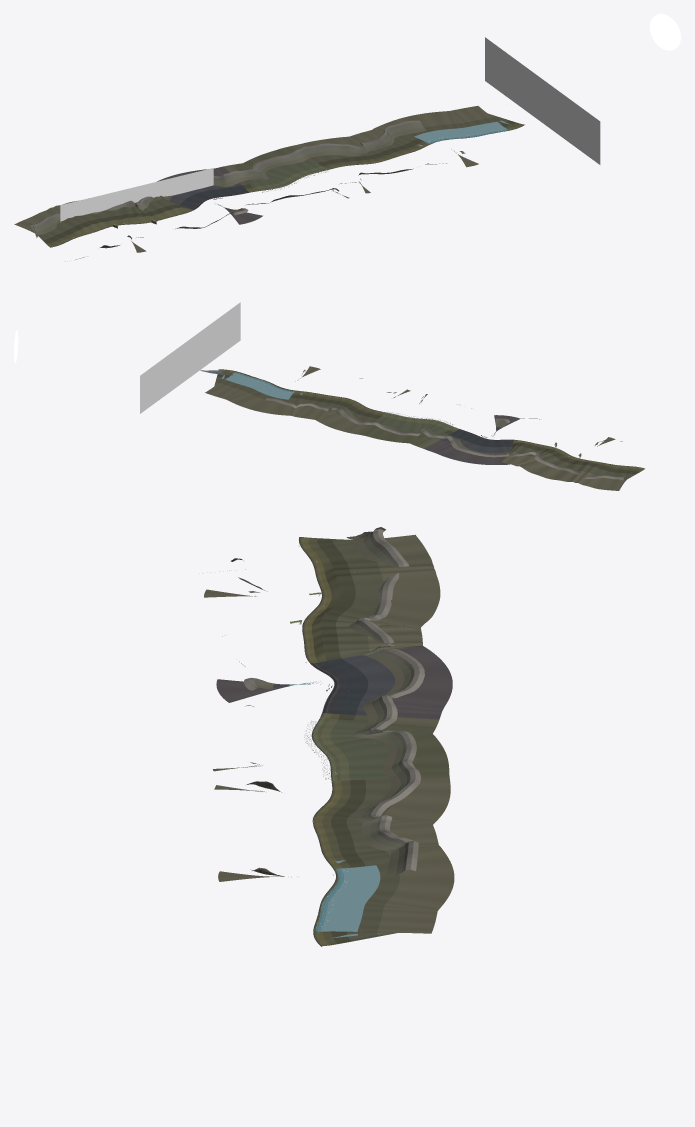
The model's file is iceland.glb.
The picture shows the model from 3 angles, top to bottom: view 1: azimuth 30°, elevation 25°; view 2: azimuth 150°, elevation 25°; view 3: azimuth 270°, elevation 25°; orthographic projection. The views are drawn at different scales.
Visible parts, largest first — view 1: IceCap, Sun; view 2: IceCap, IcelandLand_017, IcelandLand_018, IcelandLand_007, IcelandLand_032, IcelandLand_008, IcelandLand_042, IcelandLand_027, IcelandLand_003, IcelandLand_028, IcelandLand_031, IcelandLand_022 (+4 smaller); view 3: IcelandLand_007, IcelandLand_018, IcelandLand_017, IcelandLand_032, IcelandLand_006, IcelandLand_042, IcelandLand_031, IcelandLand_008, IcelandLand_028, IcelandLand_027, IcelandLand_043, IcelandLand_022 (+10 smaller).
Part boxes in pixels (box(x1,y1,x2,y2)): IceCap: box(60, 37, 600, 221); Sun: box(649, 14, 680, 50); IceCap: box(140, 302, 240, 413); IcelandLand_017: box(470, 439, 505, 464); IcelandLand_018: box(442, 437, 489, 462); IcelandLand_007: box(532, 456, 581, 479); IcelandLand_032: box(322, 407, 373, 430); IcelandLand_008: box(520, 437, 611, 473); IcelandLand_042: box(246, 378, 300, 413); IcelandLand_027: box(390, 394, 427, 443); IcelandLand_003: box(584, 464, 617, 489); IcelandLand_028: box(372, 394, 427, 441); IcelandLand_031: box(341, 390, 410, 434); IcelandLand_022: box(411, 426, 458, 448); IcelandLand_007: box(320, 589, 440, 612); IcelandLand_018: box(334, 672, 452, 699); IcelandLand_017: box(326, 646, 449, 680); IcelandLand_032: box(328, 792, 449, 817); IcelandLand_006: box(204, 573, 439, 596); IcelandLand_042: box(273, 864, 454, 888); IcelandLand_031: box(215, 781, 450, 796); IcelandLand_008: box(204, 593, 434, 626); IcelandLand_028: box(213, 750, 448, 770); IcelandLand_027: box(213, 733, 444, 771); IcelandLand_043: box(331, 880, 452, 905); IcelandLand_022: box(319, 713, 439, 732).
Size of the model in its own units: 17138 by 1040 by 4950.
